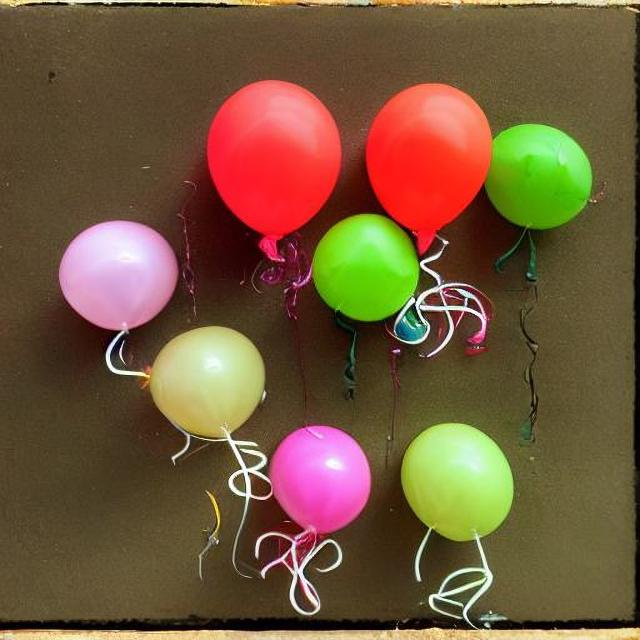balloon: (177, 66, 587, 368), (142, 323, 268, 450), (395, 418, 515, 543), (51, 215, 177, 332), (274, 418, 382, 548), (472, 120, 592, 235)
